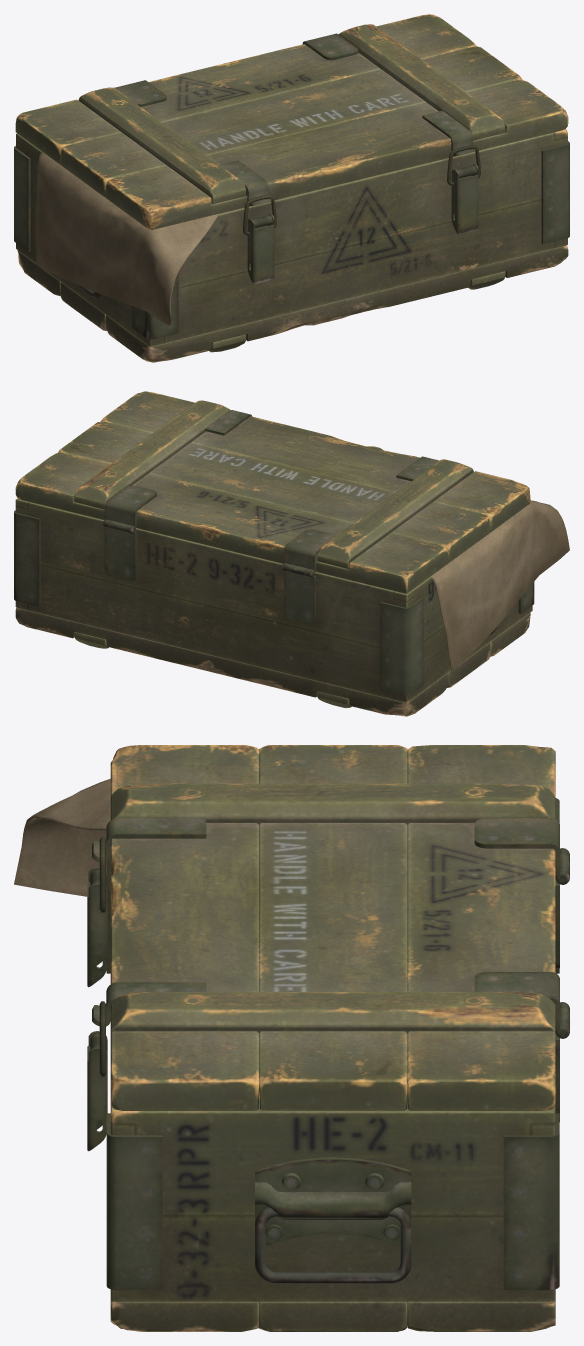
Rendered from military_crate.glb.
3 renders of one model, top to bottom at view 1: azimuth 30°, elevation 25°; view 2: azimuth 150°, elevation 25°; view 3: azimuth 270°, elevation 25°, orthographic. The views are drawn at different scales.
Parts seen in each view (by area): view 1: lid, crate, cloth, latch, loop; view 2: lid, crate, cloth; view 3: lid, crate, cloth, latch, loop.
Part boxes in pixels (<box>): lid: <box>15,14,568,230</box>; crate: <box>14,129,569,362</box>; cloth: <box>35,152,219,325</box>; latch: <box>247,164,478,284</box>; loop: <box>243,145,480,235</box>; lid: <box>15,391,530,593</box>; crate: <box>14,498,534,716</box>; cloth: <box>431,500,569,670</box>; lid: <box>92,745,569,1110</box>; crate: <box>106,798,569,1331</box>; cloth: <box>14,778,110,896</box>; latch: <box>87,867,107,1151</box>; loop: <box>99,837,105,1076</box>.
Bounding box in the file's own units: 0.8154 × 0.3009 × 0.5376.
1 material, 1 textured.
